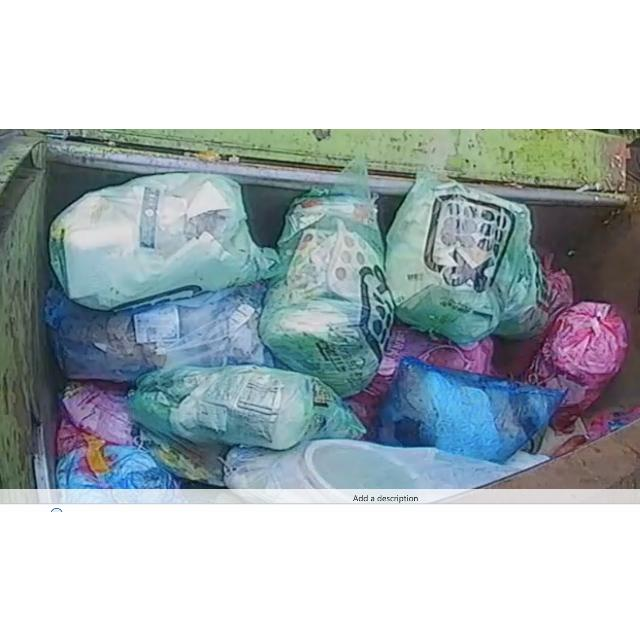general_trashbag: (259, 159, 394, 396), (50, 172, 279, 309), (385, 170, 548, 343), (129, 364, 365, 449)
other_trashbag: (44, 282, 273, 381), (379, 357, 564, 463), (224, 439, 548, 489), (350, 322, 494, 421), (526, 300, 628, 414), (56, 380, 142, 473), (56, 444, 179, 489)
